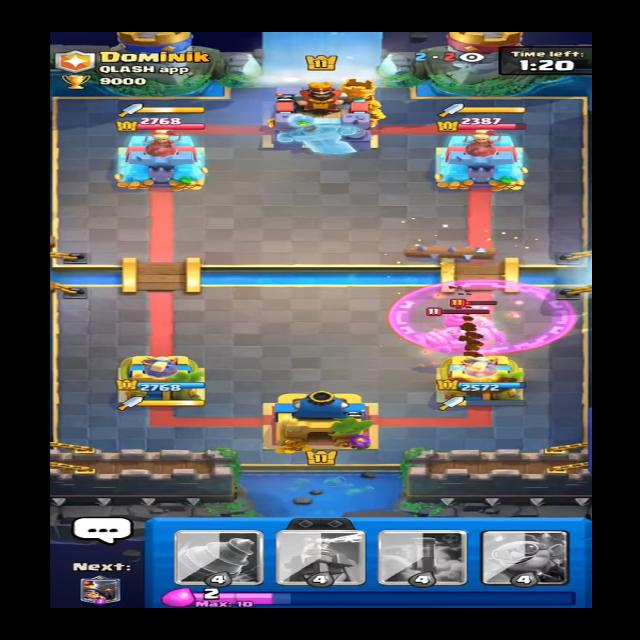goblin-machine: (412, 308, 500, 356)
rage: (388, 281, 576, 352)
